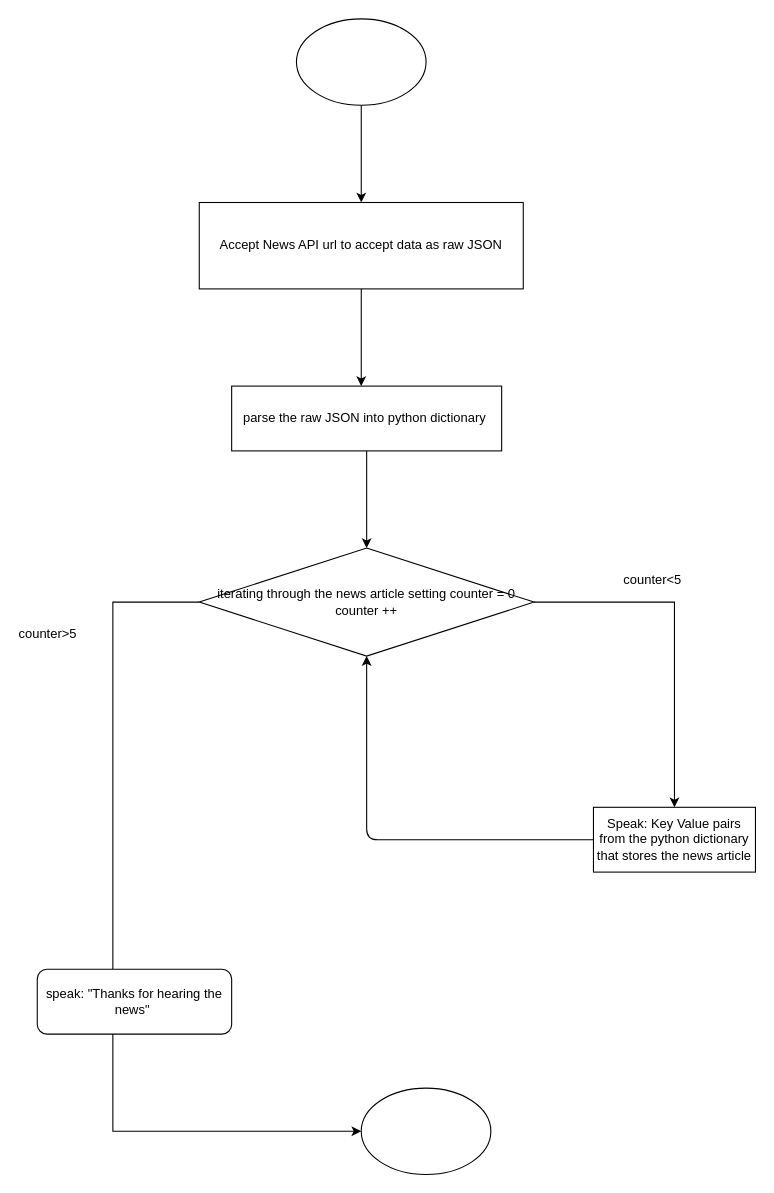
This 774x1193 diagram has some shape labels left out. Each missing label, with the centre of its shape:
end: [425,1130]
START: [360,61]
